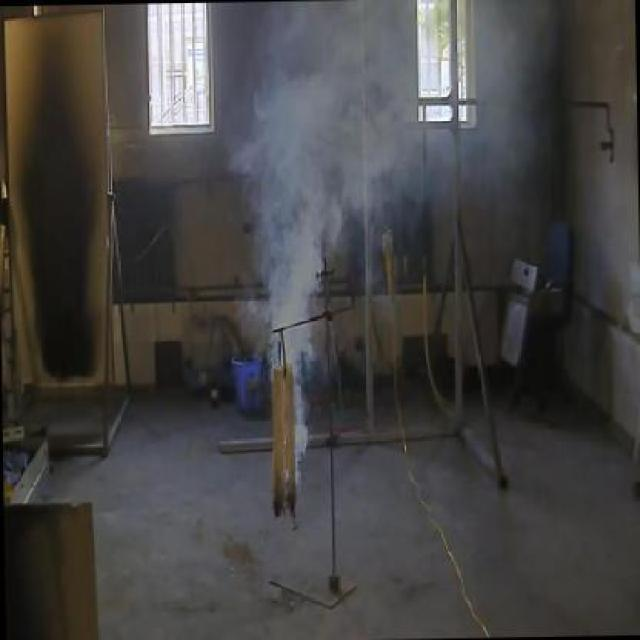fire: (226, 0, 392, 329)
